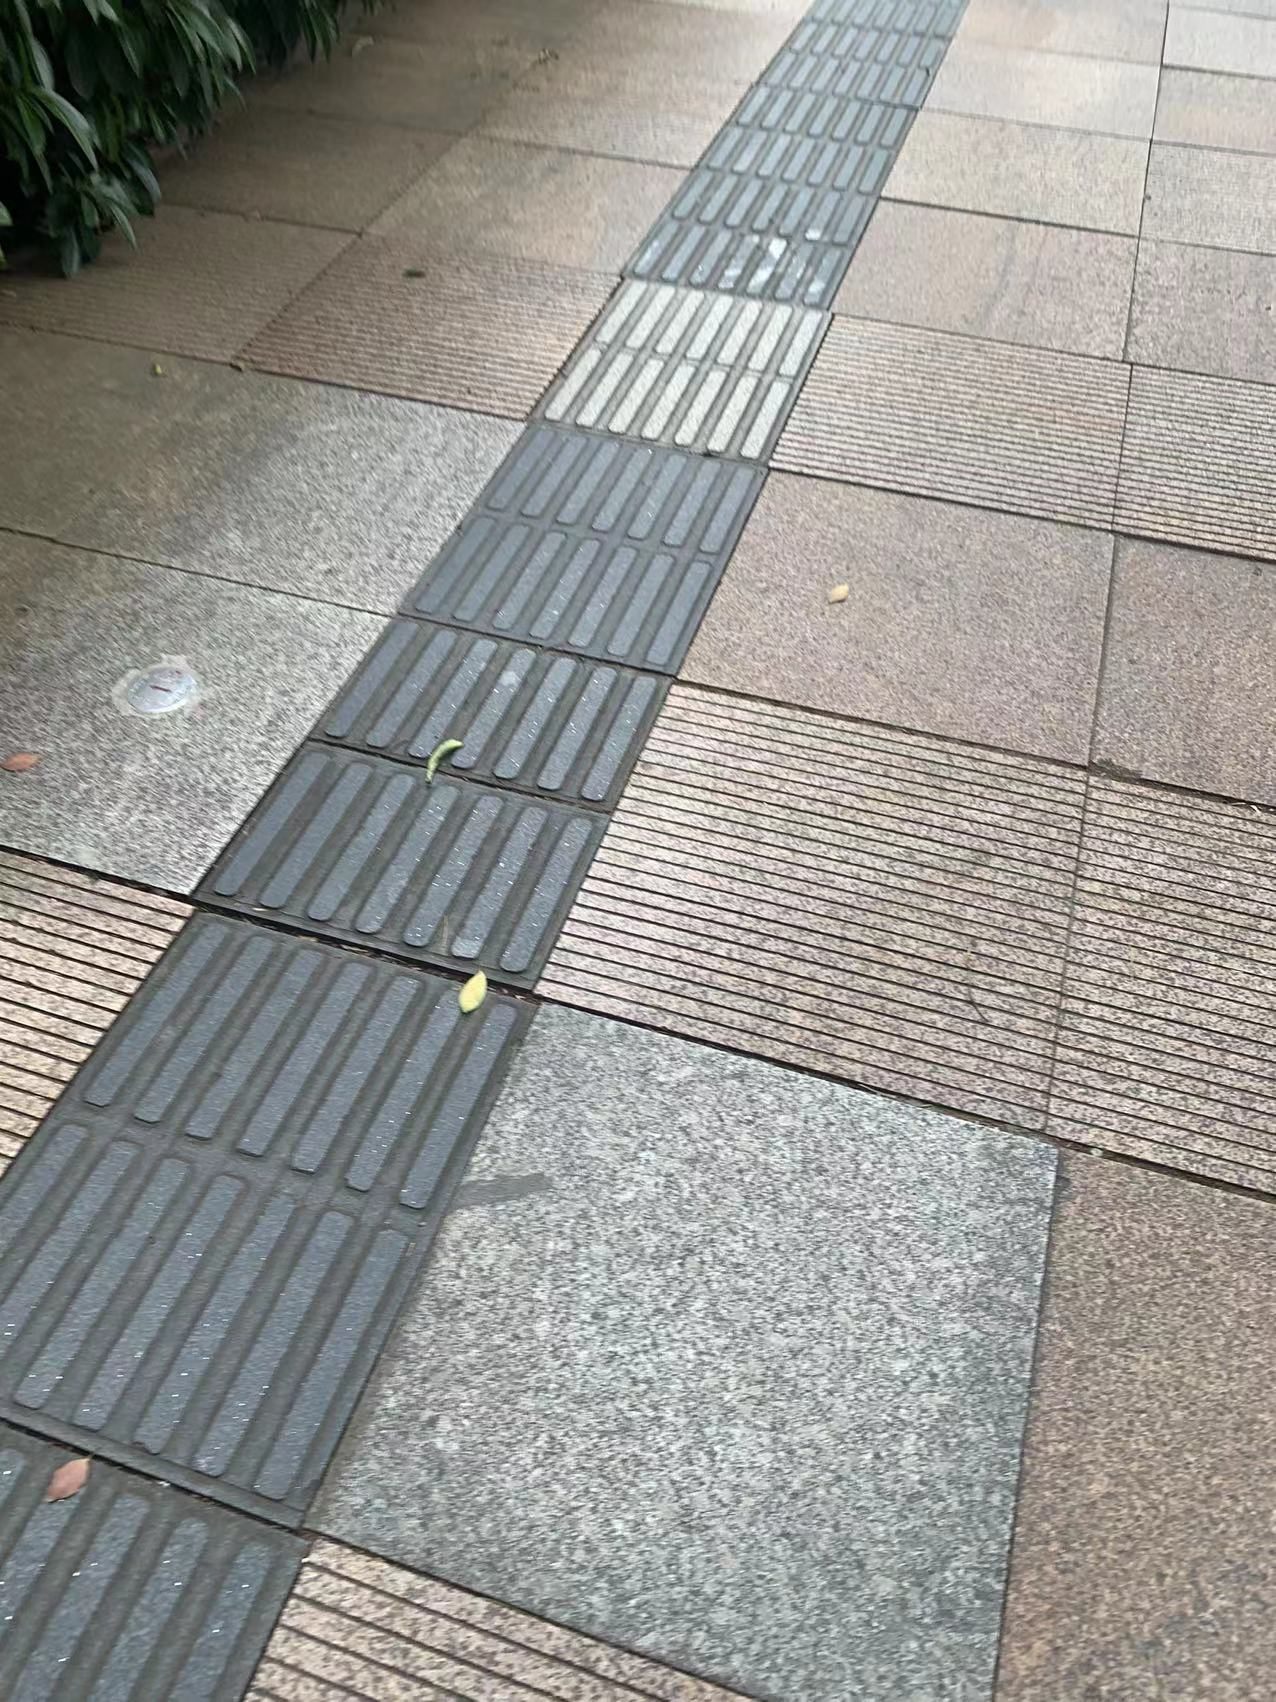leaf: (35, 1449, 95, 1506), (413, 730, 466, 785), (449, 965, 500, 1019), (820, 576, 858, 612)
